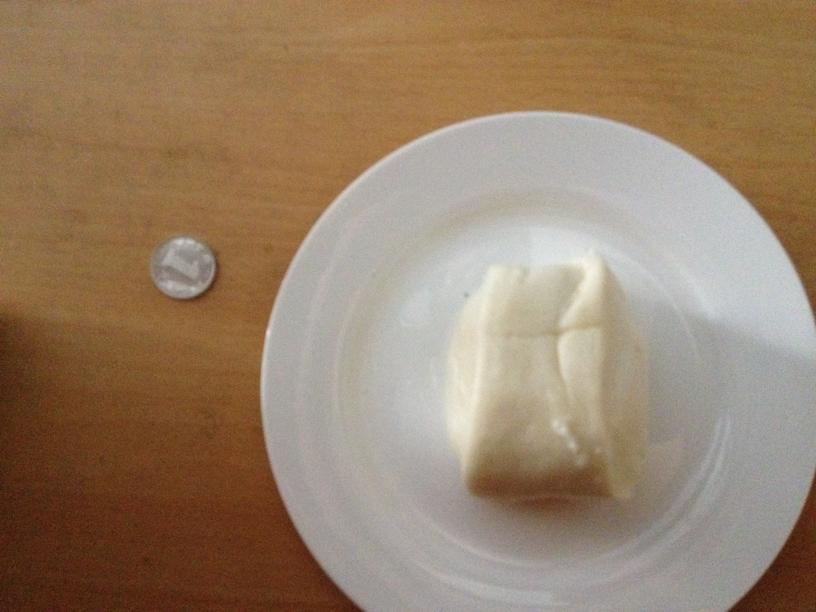bun: (442, 261, 646, 499)
coin: (152, 236, 214, 297)
